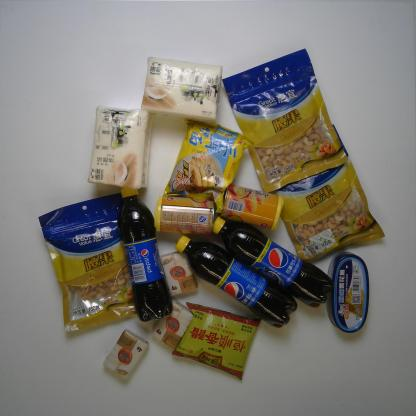Canned Food: (328, 253, 378, 336), (218, 185, 286, 233), (156, 191, 218, 236)
Dried Fruit: (222, 48, 351, 195), (35, 194, 154, 335), (264, 126, 386, 258)
Drink: (171, 230, 300, 335), (208, 214, 339, 316), (118, 185, 176, 321)
Instant Noodles: (163, 119, 251, 212)
Seasoner: (176, 299, 271, 381)
Tissue: (83, 105, 158, 198), (136, 54, 229, 125), (100, 328, 148, 384), (154, 302, 198, 351), (160, 249, 201, 298)
